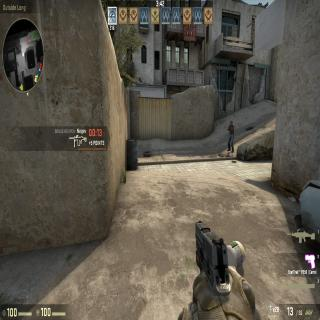T-Body: (228, 119, 235, 152)
T-Head: (230, 118, 232, 125)
